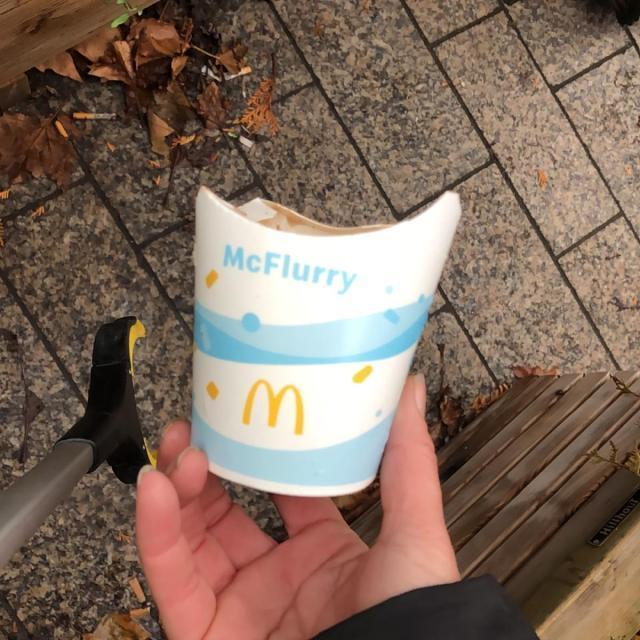Paper: (185, 182, 465, 500)
